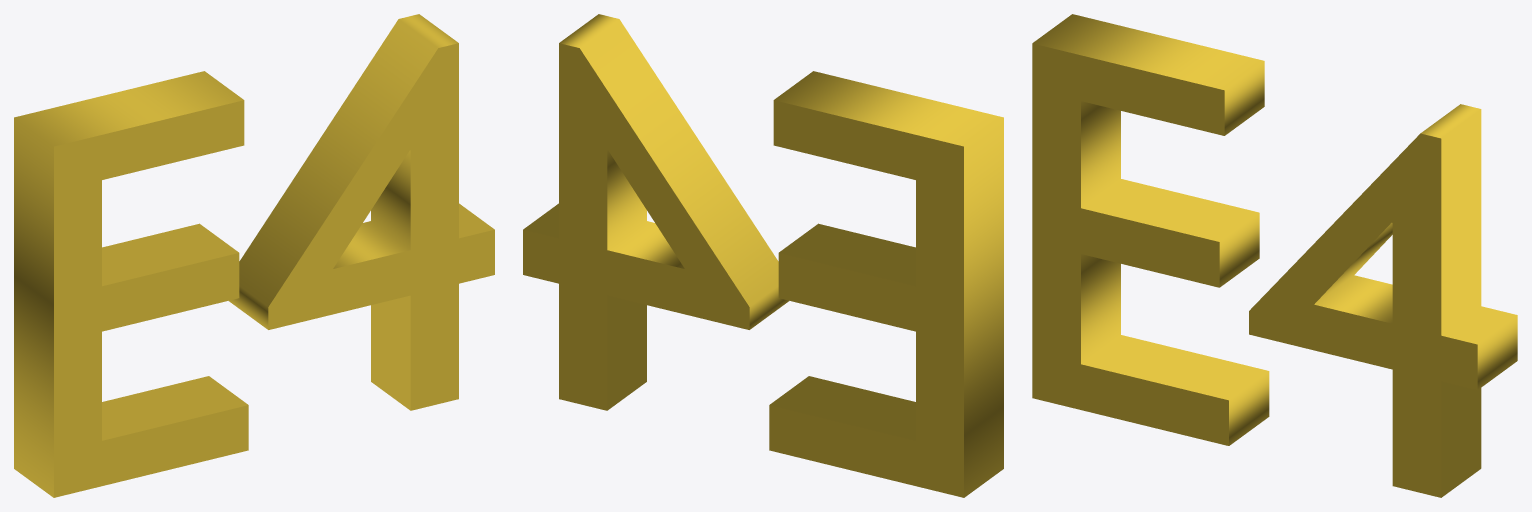
3 renders of one model, left to right at view 1: azimuth 30°, elevation 25°; view 2: azimuth 150°, elevation 25°; view 3: azimuth 330°, elevation 25°, orthographic.
Parts seen in each view (by area): view 1: 텍스트; view 2: 텍스트; view 3: 텍스트.
Boxes of the visible parts, left/top/right/bottom form: 텍스트: left=14, top=14, right=494, bottom=497; 텍스트: left=523, top=14, right=1003, bottom=497; 텍스트: left=1032, top=14, right=1517, bottom=497.
Bounding box in the file's own units: 89.6 × 69.1 × 14.
